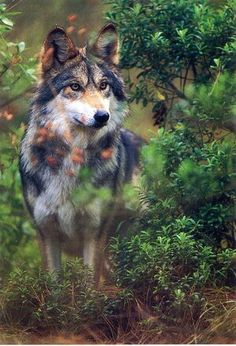Lobo: (24, 19, 123, 336)
